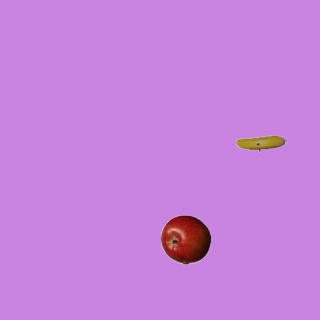Apple Braeburn: (160, 214, 210, 264)
Banana: (235, 118, 285, 168)
